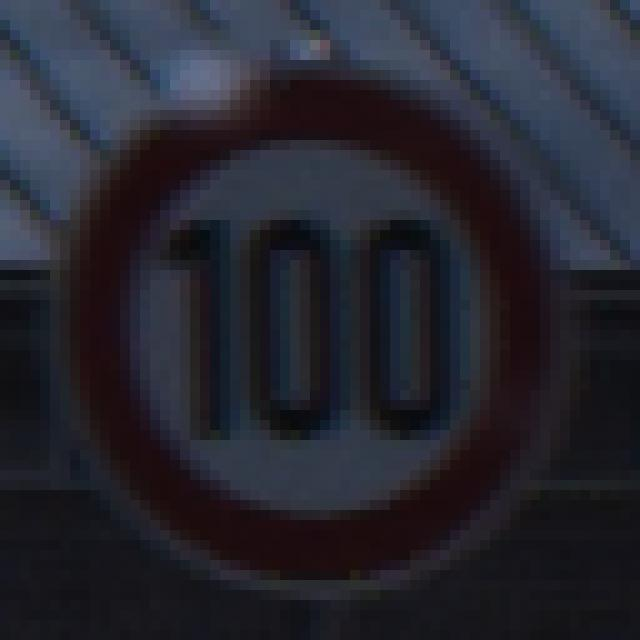speed limit 100: (42, 59, 584, 598)
